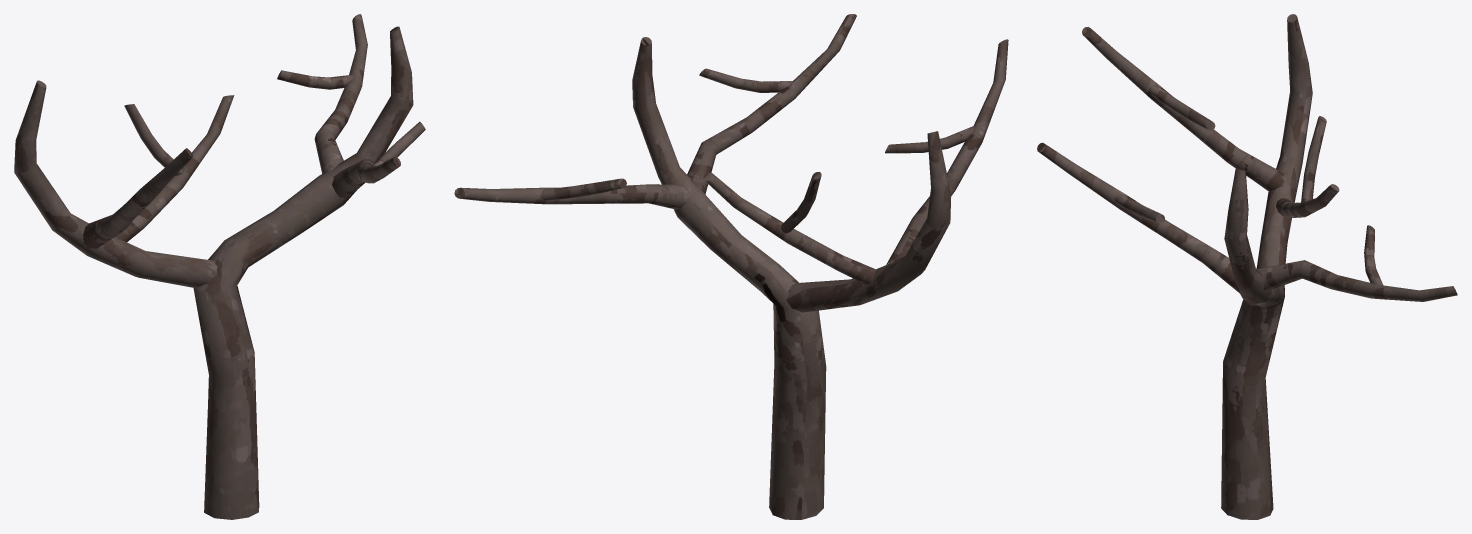
File: deadtree_4.glb
The picture shows the model from 3 angles, left to right: view 1: azimuth 30°, elevation 25°; view 2: azimuth 150°, elevation 25°; view 3: azimuth 270°, elevation 25°; orthographic projection. The views are drawn at different scales.
Parts seen in each view (by area): view 1: DeadTree_4; view 2: DeadTree_4; view 3: DeadTree_4.
Part boxes in pixels (left/top/right/bottom): DeadTree_4: left=14, top=14, right=425, bottom=519; DeadTree_4: left=454, top=14, right=1008, bottom=519; DeadTree_4: left=1037, top=14, right=1457, bottom=519.
Size of the model in its own units: 4.89 by 4.98 by 4.48.
1 material, 1 textured.
